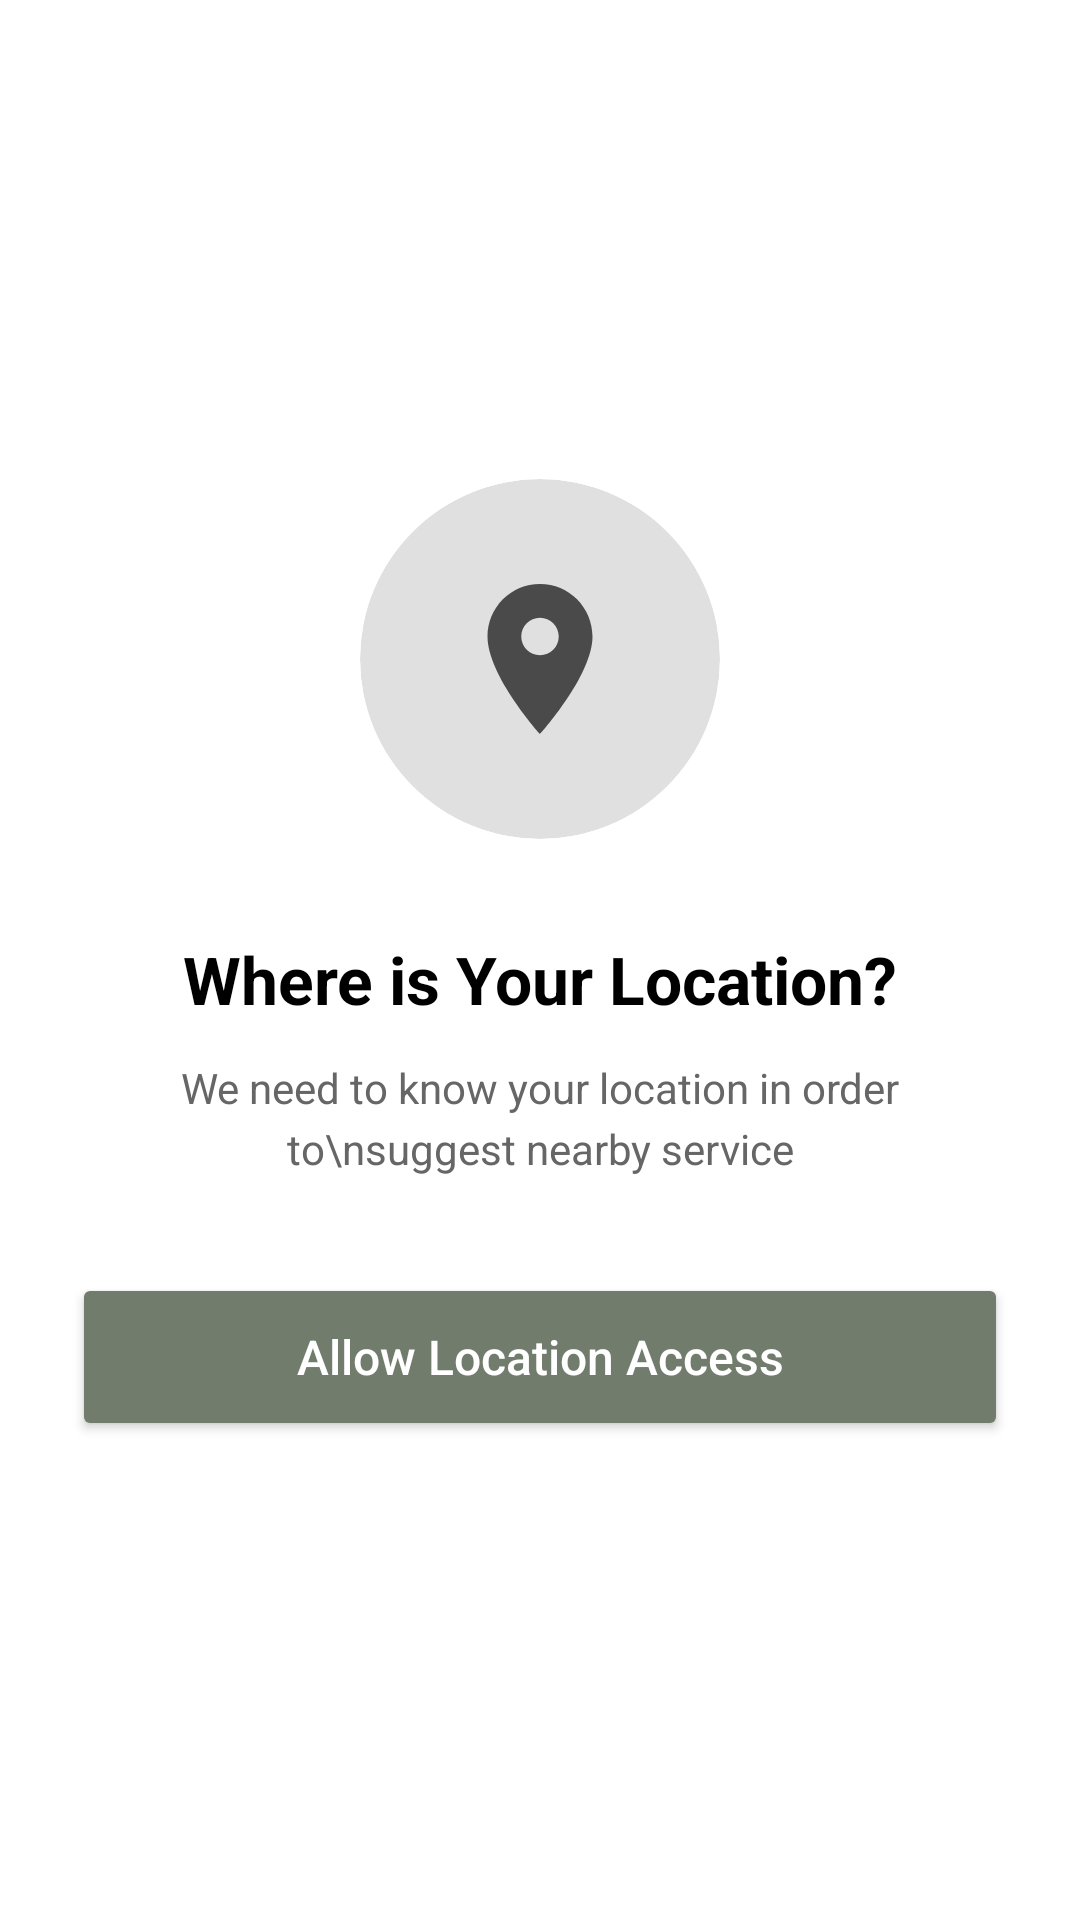

Icons on this 1080 x 1920 Android screen, each with the point to tap as (x=x, y=y):
Location icon: (x=540, y=659)
